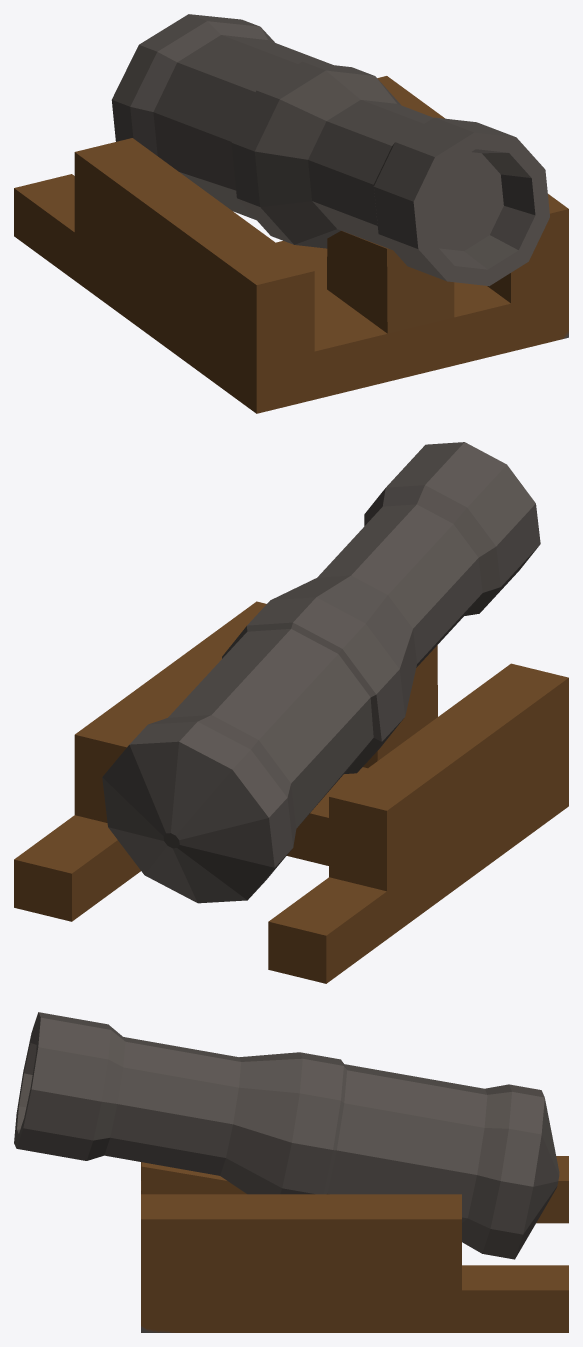
Rendered from Cannon.fbx.
3 renders of one model, top to bottom at view 1: azimuth 30°, elevation 25°; view 2: azimuth 150°, elevation 25°; view 3: azimuth 270°, elevation 25°, orthographic. The views are drawn at different scales.
Parts seen in each view (by area): view 1: Cannon; view 2: Cannon; view 3: Cannon.
Part boxes in pixels (left/top/right/bottom): Cannon: left=14, top=14, right=568, bottom=413; Cannon: left=14, top=442, right=568, bottom=983; Cannon: left=14, top=1012, right=568, bottom=1332.
Bounding box in the file's own units: 55.61 × 48.24 × 97.02.
